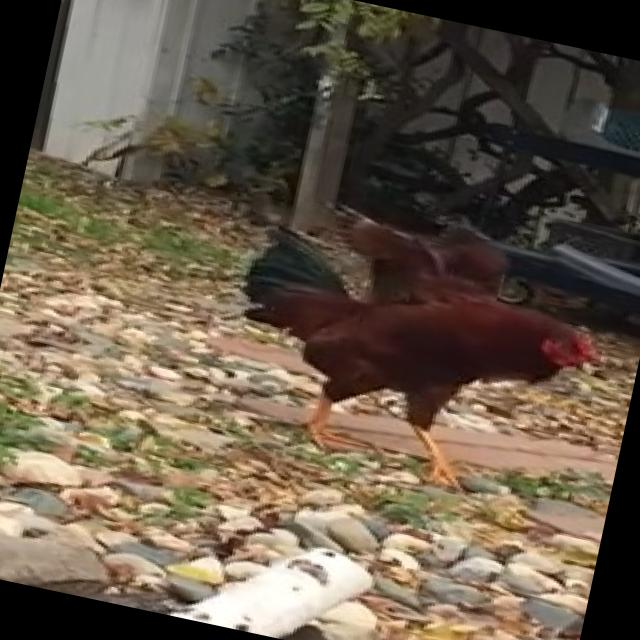wing flap: (200, 184, 639, 524)
